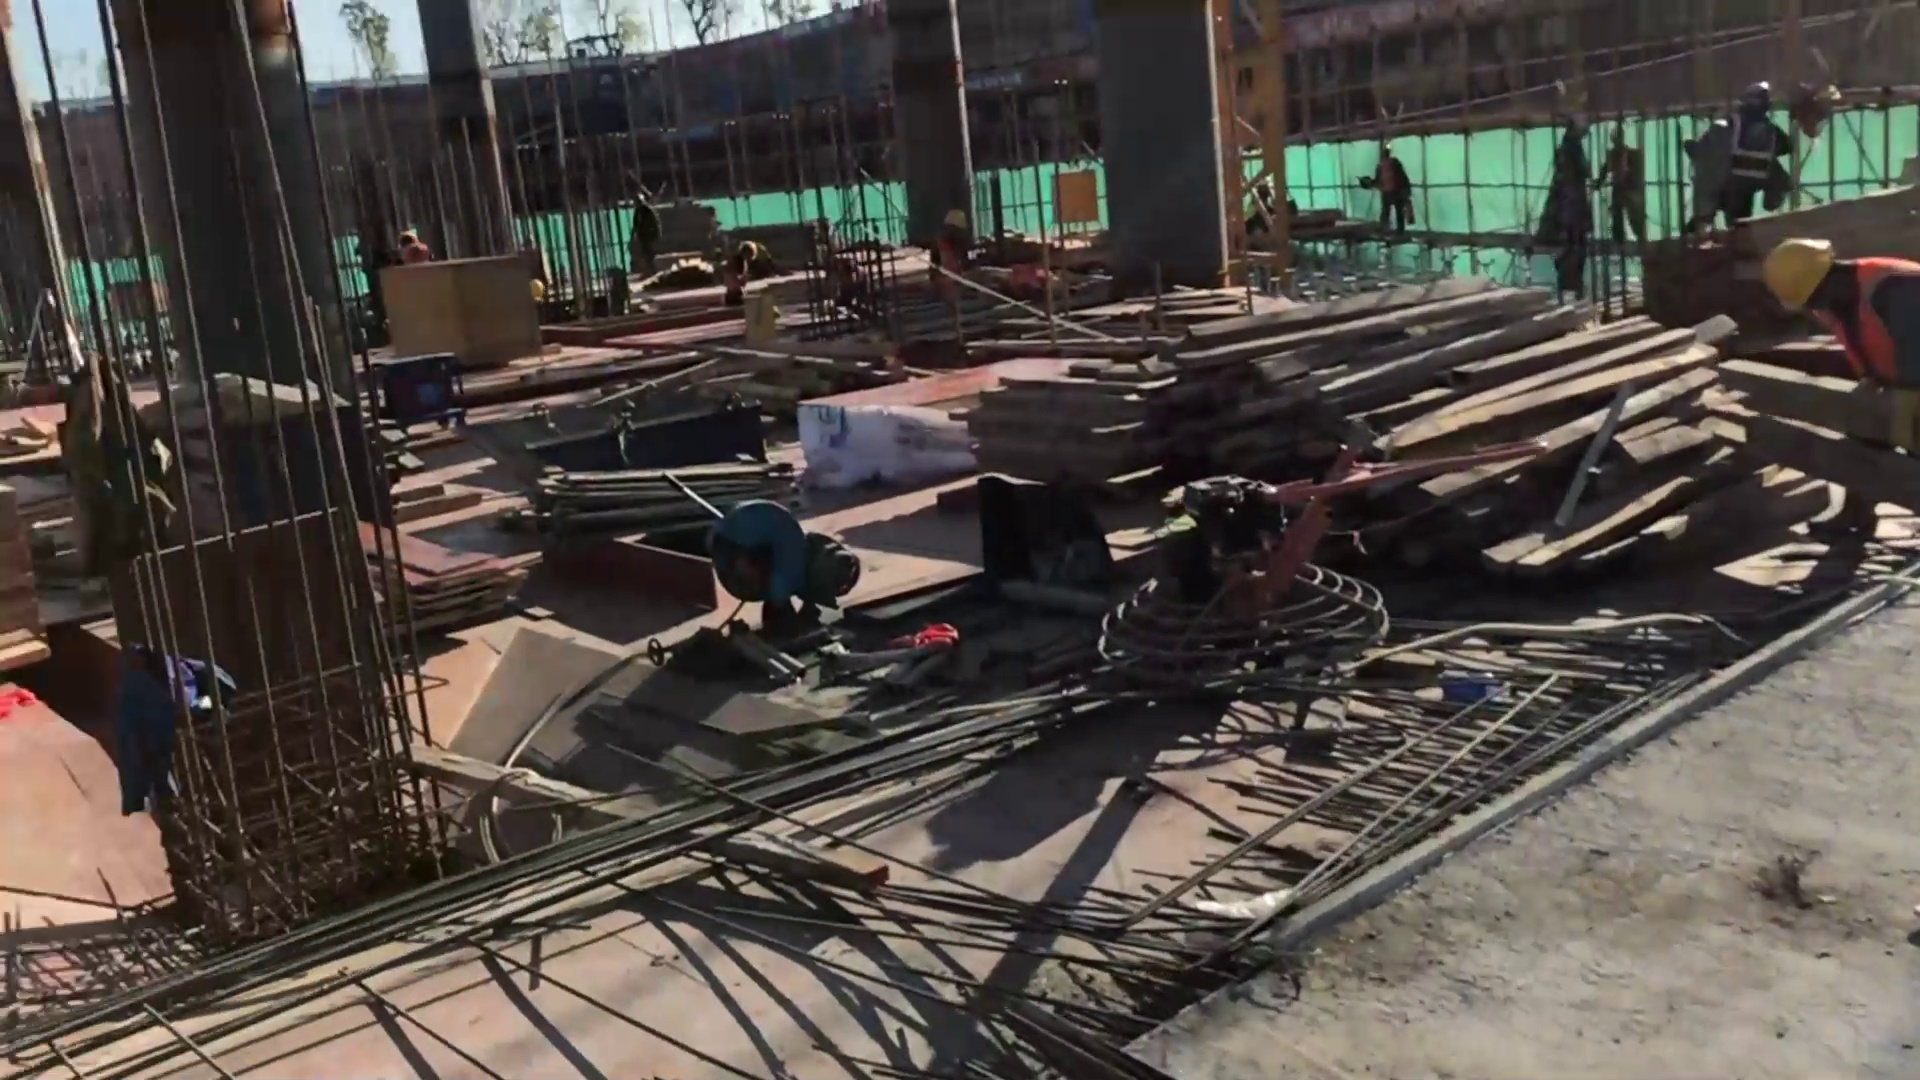board: (538, 462, 813, 523), (375, 538, 544, 619)
helmet: (1762, 230, 1832, 317)
person: (1761, 226, 1920, 540), (1728, 84, 1785, 223), (1594, 124, 1654, 246), (1365, 145, 1415, 237)
wood: (986, 301, 1770, 587)
